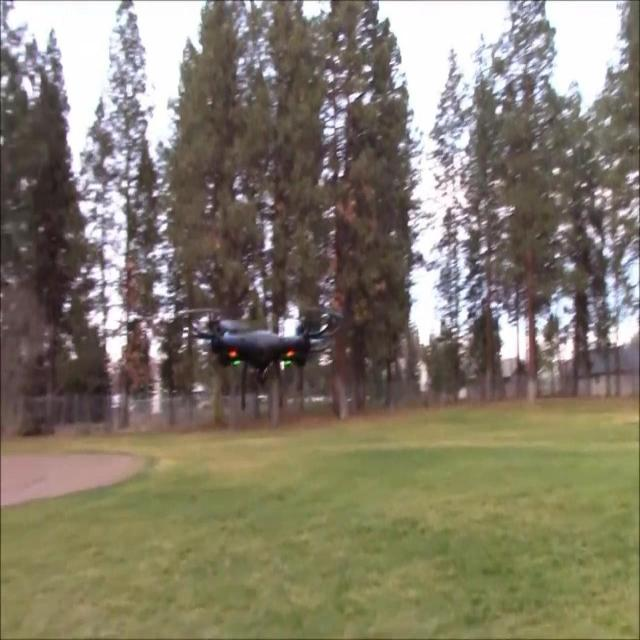UAV: (177, 308, 344, 412)
